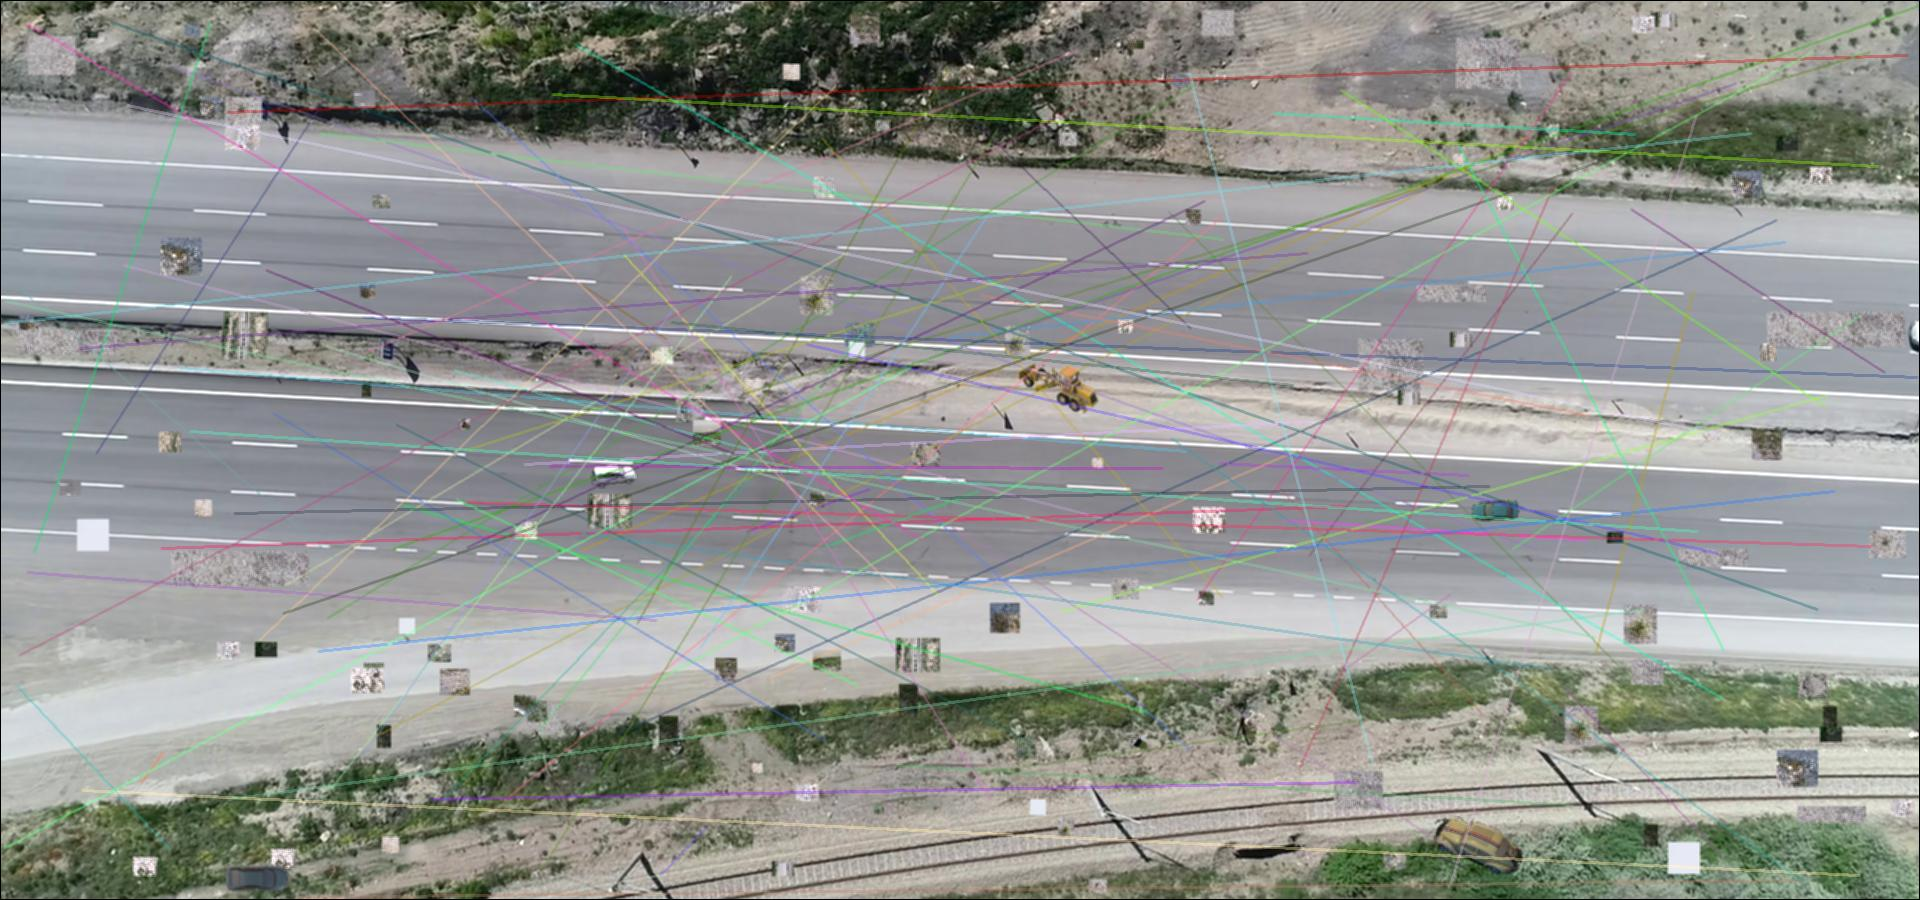arac: (1435, 817, 1523, 877), (1016, 361, 1102, 415), (225, 864, 289, 891), (591, 463, 638, 489), (1471, 500, 1520, 522)
